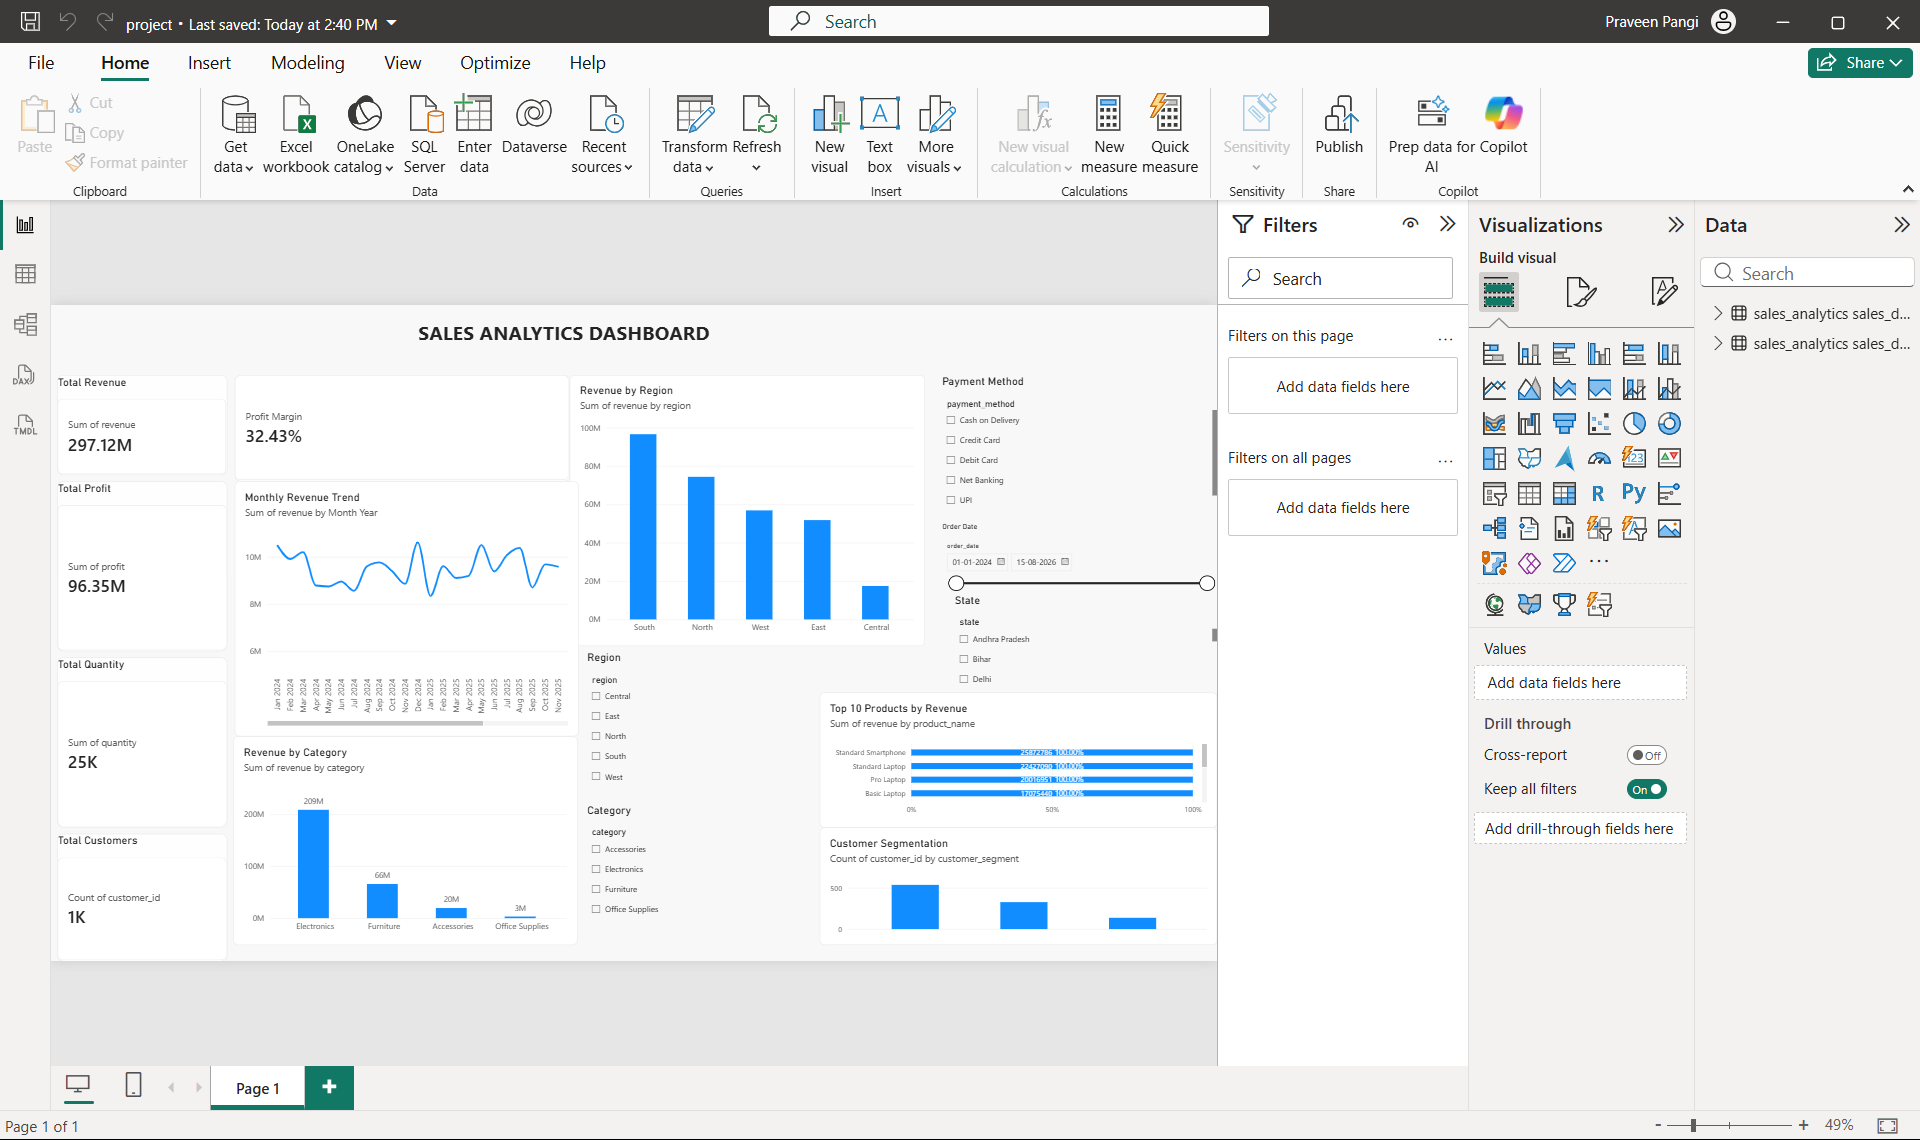

Layout of this report page (visuals, bound fields, positions):
{"tool":"powerbi","page":{"name":"Page 1","canvas":[1920,1080],"ordinal":0},"visuals":[{"type":"cardVisual","title":"Total Revenue","fields":{"Data":["Sum(sales_analytics sales_dashboard.revenue)"]},"box":[10.3,115.3,279.9,164.7],"z":0},{"type":"cardVisual","title":"Total Profit","fields":{"Data":["Sum(sales_analytics sales_dashboard.profit)"]},"box":[10,290,280,280],"z":1},{"type":"cardVisual","title":"Total Quantity","fields":{"Data":["Sum(sales_analytics sales_dashboard.quantity)"]},"box":[10,580,280,280],"z":2},{"type":"cardVisual","title":"Total Customers","fields":{"Data":["Count(sales_analytics sales_dashboard.customer_id)"]},"box":[10,870,280,210],"z":3},{"type":"cardVisual","fields":{"Data":["sales_analytics sales_dashboard.Profit Margin"]},"box":[302.6,115.3,551.6,175],"z":4},{"type":"clusteredColumnChart","title":"Revenue by Category","fields":{"Category":["sales_analytics sales_dashboard.category"],"Y":["Sum(sales_analytics sales_dashboard.revenue)"]},"box":[300.5,710.1,566,343.7],"z":5},{"type":"clusteredColumnChart","title":"Revenue by Region","fields":{"Category":["sales_analytics sales_dashboard.region"],"Y":["Sum(sales_analytics sales_dashboard.revenue)"]},"box":[854.2,115.3,584.6,446.7],"z":6},{"type":"lineChart","title":"Monthly Revenue Trend","fields":{"Category":["sales_analytics sales_dashboard.Month Year"],"Y":["Sum(sales_analytics sales_dashboard.revenue)"]},"box":[302.6,290.2,566,419.9],"z":7},{"type":"slicer","title":"Region","fields":{"Values":["sales_analytics sales_dashboard.region"]},"box":[883,570.2,366.4,222.3],"z":9},{"type":"slicer","title":"Category","fields":{"Values":["sales_analytics sales_dashboard.category"]},"box":[883,821.3,366.4,232.6],"z":10},{"type":"slicer","title":"Payment Method","fields":{"Values":["sales_analytics sales_dashboard.payment_method"]},"box":[1467.6,115.3,452.8,224.4],"z":11},{"type":"slicer","title":"Order Date","fields":{"Values":["sales_analytics sales_dashboard.order_date"]},"box":[1467.6,358.1,452.8,142],"z":12},{"type":"slicer","title":"State","fields":{"Values":["sales_analytics sales_dashboard.state"]},"box":[1488.2,475.5,432.2,162.6],"z":13},{"type":"textbox","box":[424,22.6,841.9,92.6],"z":14},{"type":"hundredPercentStackedBarChart","title":"Top 10 Products by Revenue","fields":{"Category":["sales_analytics sales_dashboard.product_name"],"Y":["Sum(sales_analytics sales_dashboard.revenue)"]},"box":[1265.9,638.1,654.5,222.3],"z":15},{"type":"clusteredColumnChart","title":"Customer Segmentation","fields":{"Category":["sales_analytics sales_dashboard.customer_segment"],"Y":["Count(sales_analytics sales_dashboard.customer_id)"]},"box":[1265.9,860.4,654.5,193.5],"z":16}]}

Visuals, with their boxes on the page's 1920x1080 design canvas (x1, y1, x2, y2). These are canvas units, not pixel positions in the 1920x1140 screenshot, which may show the page scaled, cropped or inside an application window:
"Total Revenue" cardVisual: crop(10, 115, 290, 280)
"Total Profit" cardVisual: crop(10, 290, 290, 570)
"Total Quantity" cardVisual: crop(10, 580, 290, 860)
"Total Customers" cardVisual: crop(10, 870, 290, 1080)
cardVisual - sales_analytics sales_dashboard.Profit Margin: crop(303, 115, 854, 290)
"Revenue by Category" clusteredColumnChart: crop(300, 710, 866, 1054)
"Revenue by Region" clusteredColumnChart: crop(854, 115, 1439, 562)
"Monthly Revenue Trend" lineChart: crop(303, 290, 869, 710)
"Region" slicer: crop(883, 570, 1249, 792)
"Category" slicer: crop(883, 821, 1249, 1054)
"Payment Method" slicer: crop(1468, 115, 1920, 340)
"Order Date" slicer: crop(1468, 358, 1920, 500)
"State" slicer: crop(1488, 476, 1920, 638)
textbox: crop(424, 23, 1266, 115)
"Top 10 Products by Revenue" hundredPercentStackedBarChart: crop(1266, 638, 1920, 860)
"Customer Segmentation" clusteredColumnChart: crop(1266, 860, 1920, 1054)
